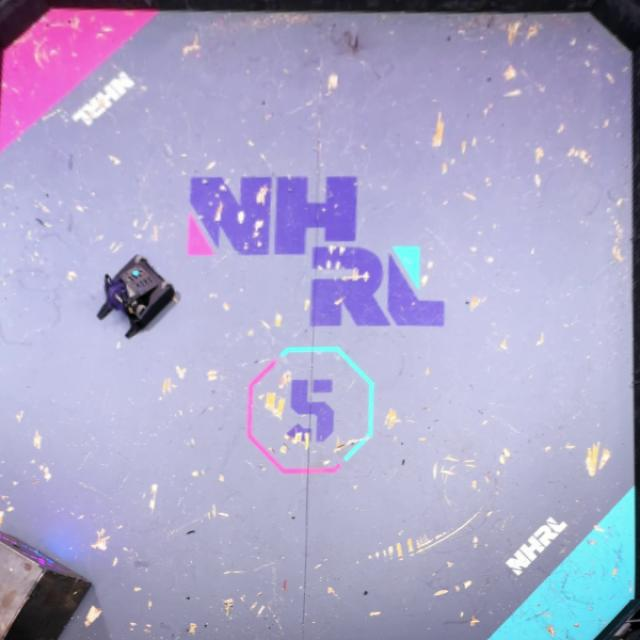housebot: (1, 532, 93, 640)
robot: (96, 252, 179, 339)
